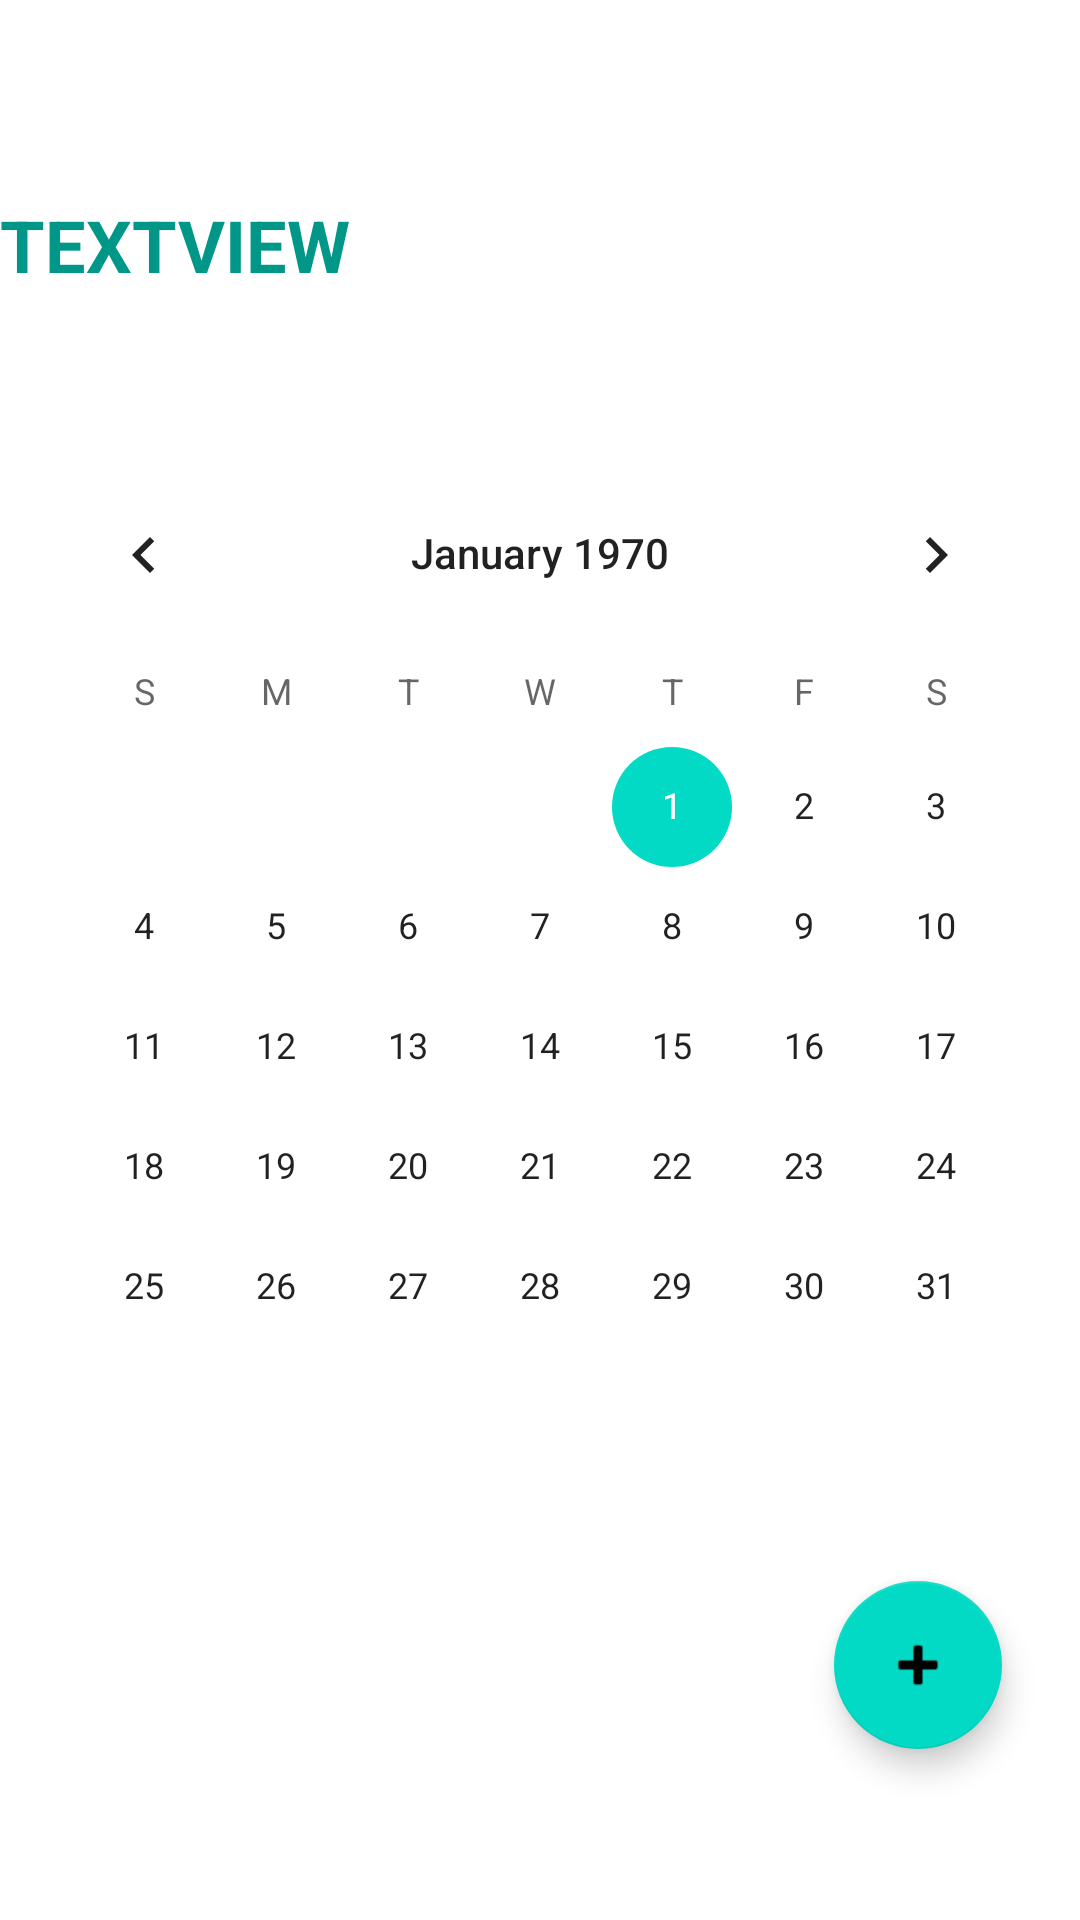

Icons on this 1080 x 1920 Android screen, each with the point to tap as (x,y):
add: (918,1665)
